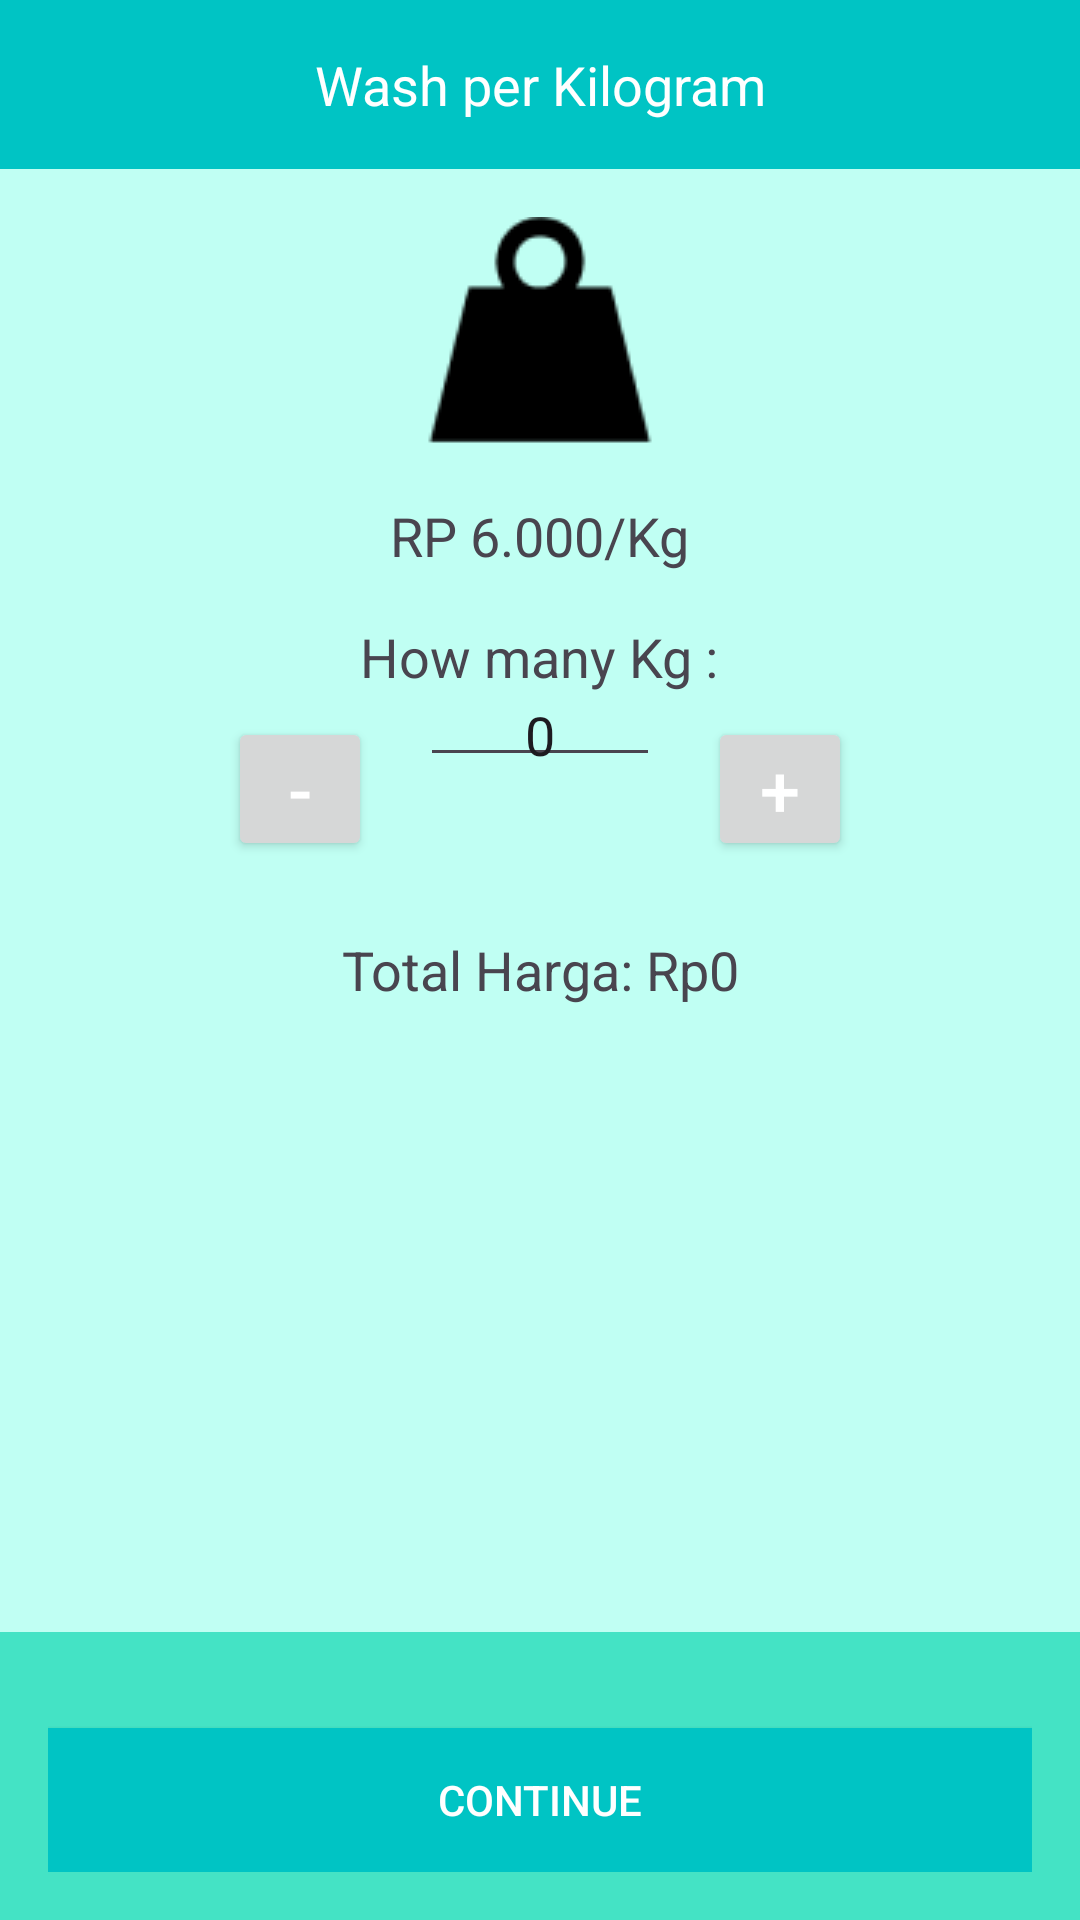

Where icons sit on this 1080 × 1920 app screen, as (x1, y1, x2, y2):
weight: (428, 217, 652, 443)
